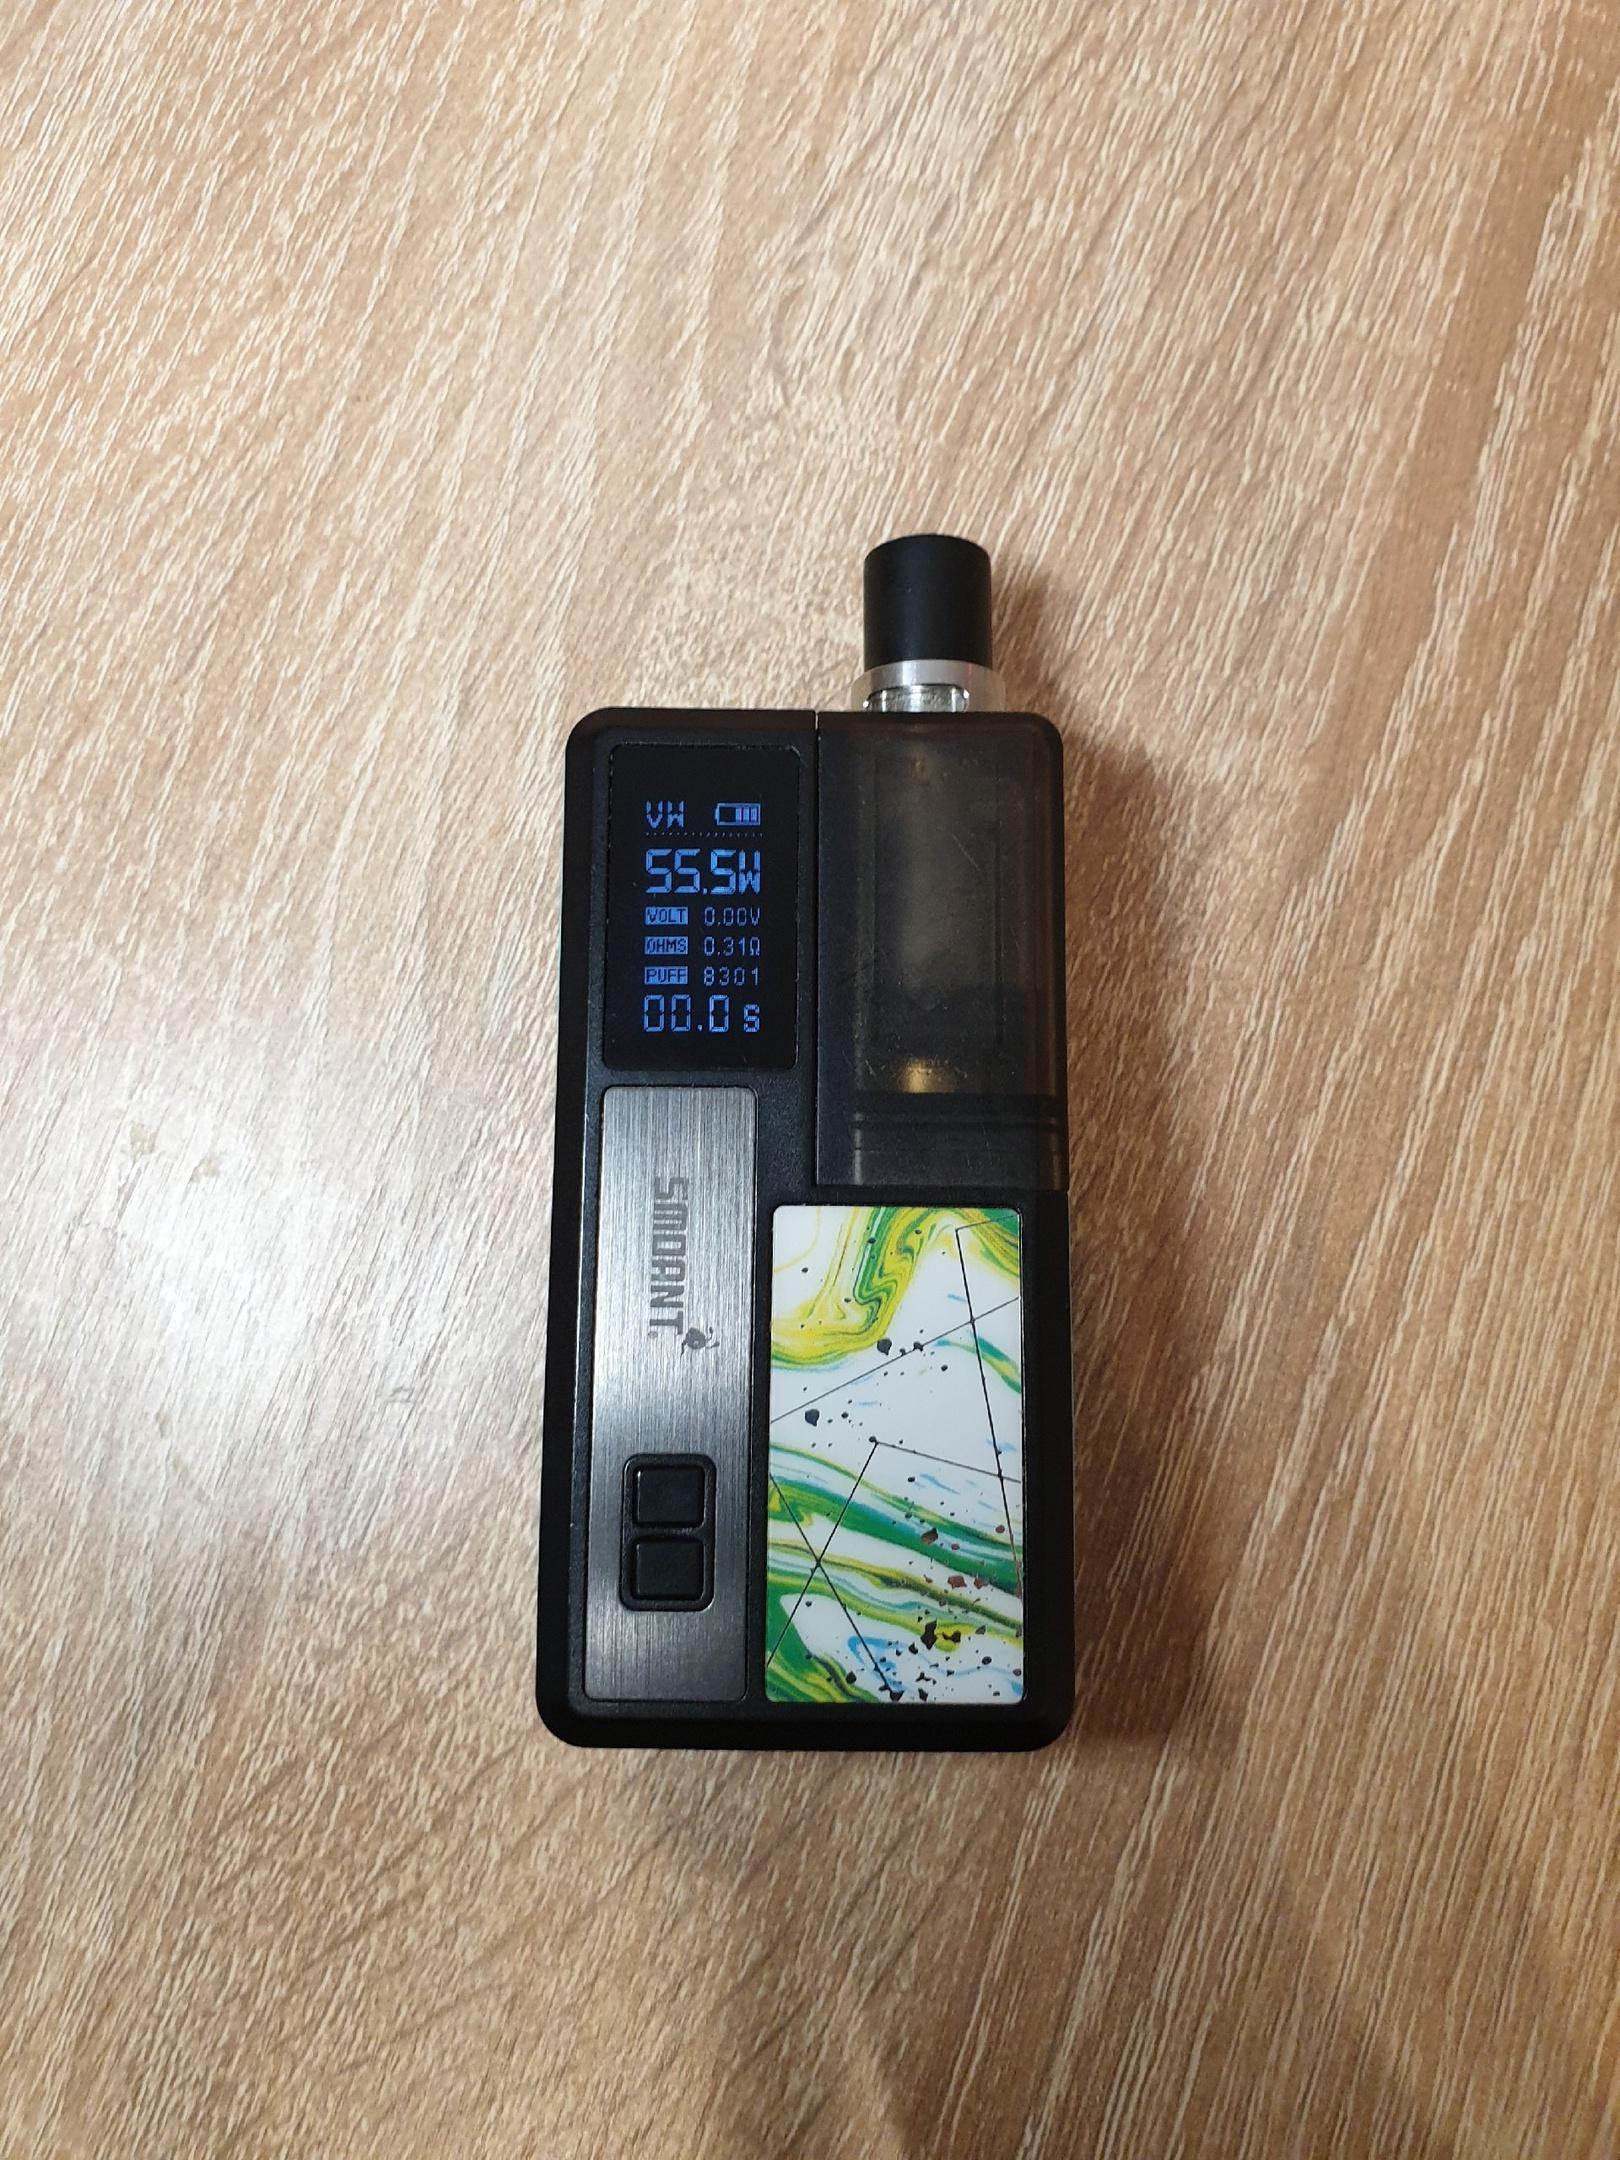Vape: (539, 536, 1074, 1750)
